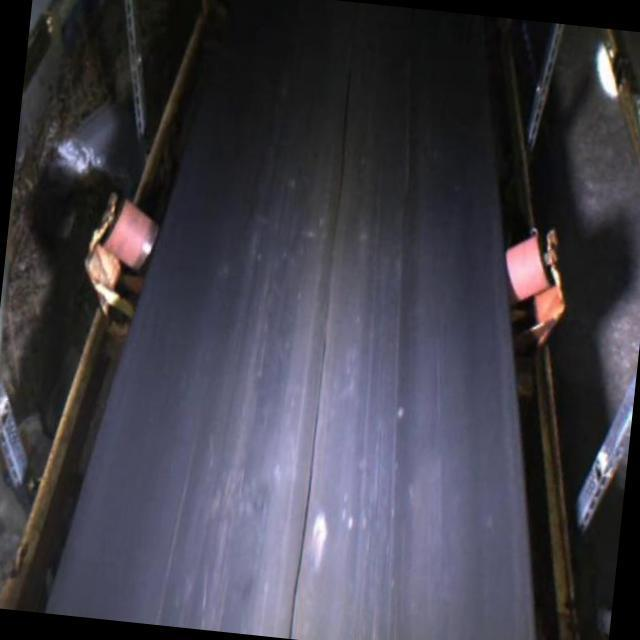Tear: (284, 30, 368, 640)
